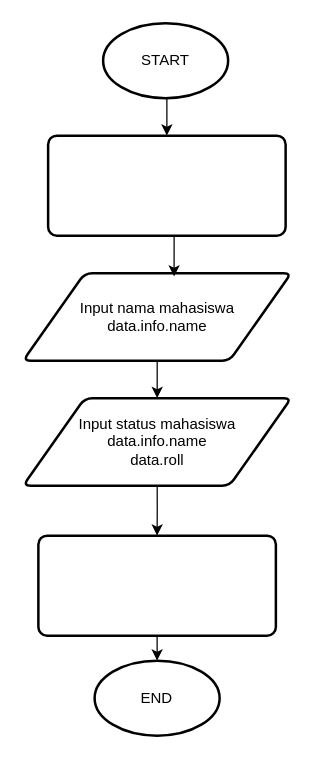
This 314x758 diagram has some shape labels left out. Each missing label, with the centre of its shape:
"Struct name Struct roll Struct name info" goes at (x=166, y=185).
"Tampilkan Nama Mahasiswa Status Mahasiswa" goes at (x=156, y=585).
